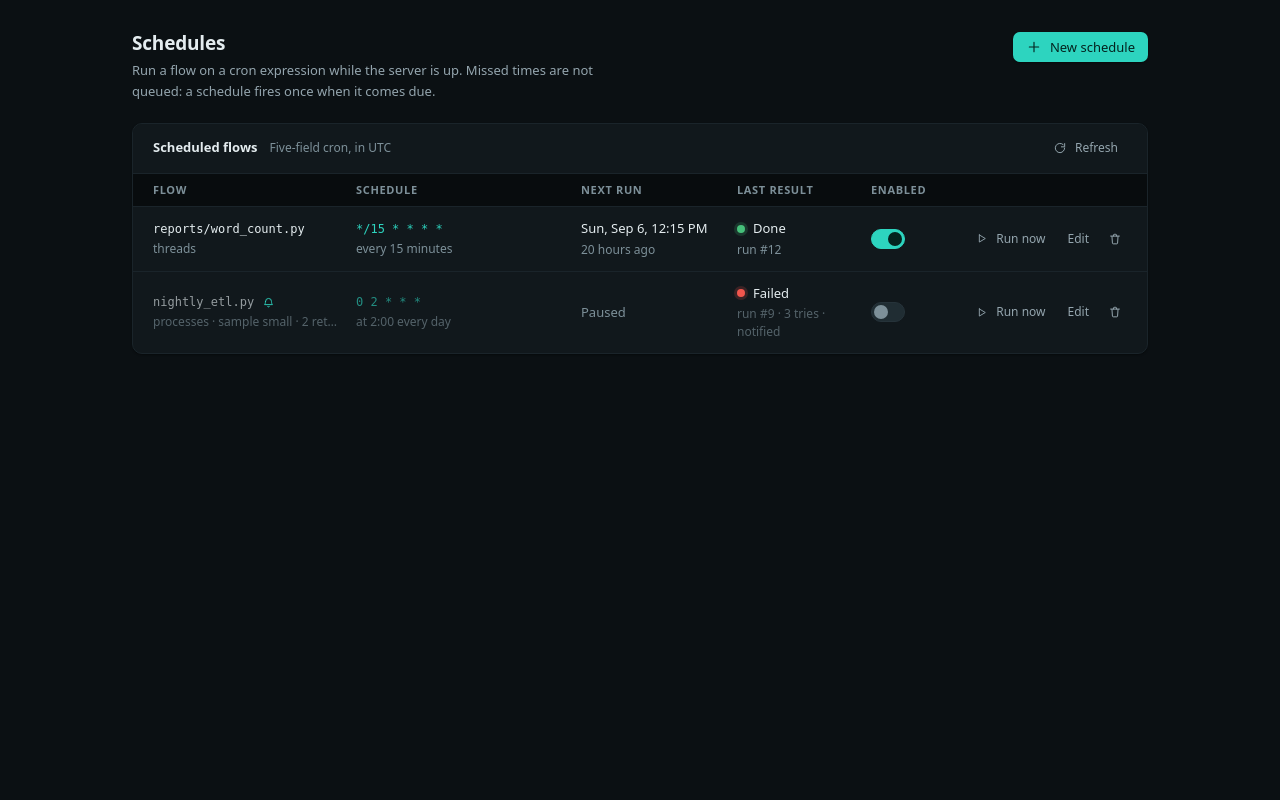
it: the schedules page › opens an existing schedule on the preset it was made with
Click the button with aria-label "Edit the schedule for reports/word_count.py": click(1078, 239) [1058, 226, 1098, 251]
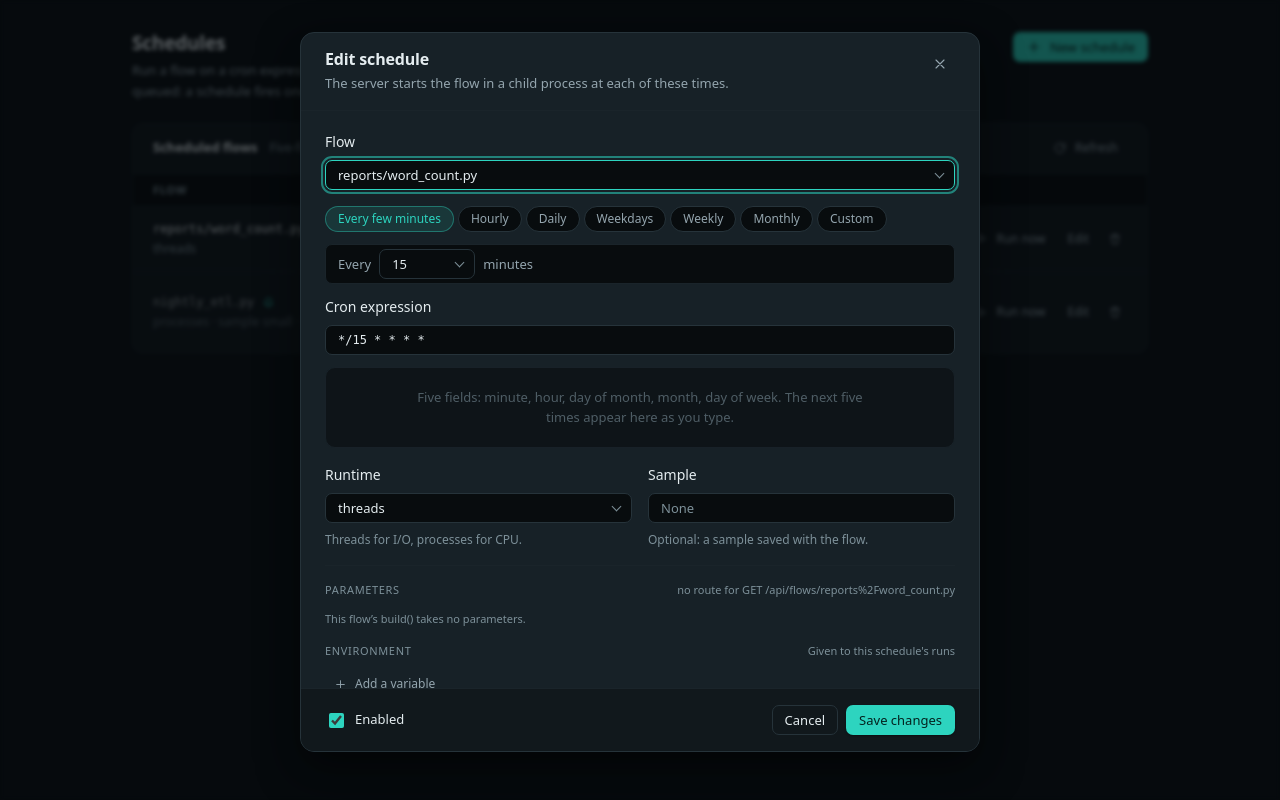
Expected: the field labelled "Cron expression" holds "*/15 * * * *", [325, 325, 955, 355]
